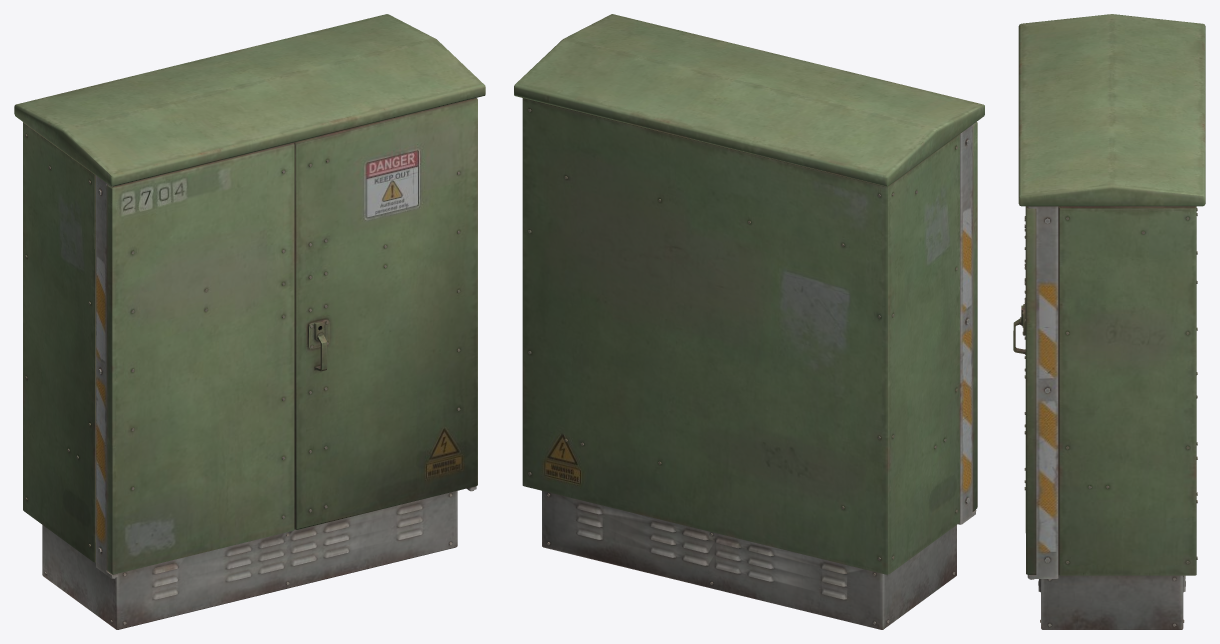
Rendered from utility_box_02.glb.
3 views of the same model, side by side, from view 1: azimuth 30°, elevation 25°; view 2: azimuth 150°, elevation 25°; view 3: azimuth 270°, elevation 25° (orthographic). The views are drawn at different scales.
Parts seen in each view (by area): view 1: utility_box_02; view 2: utility_box_02; view 3: utility_box_02.
Part boxes in pixels (x1,y1,x2,y2): utility_box_02: (14,14,485,629); utility_box_02: (514,14,984,629); utility_box_02: (1013,14,1205,629).
Bounding box in the file's own units: 0.92 × 1.12 × 0.432.
1 material, 1 textured.
